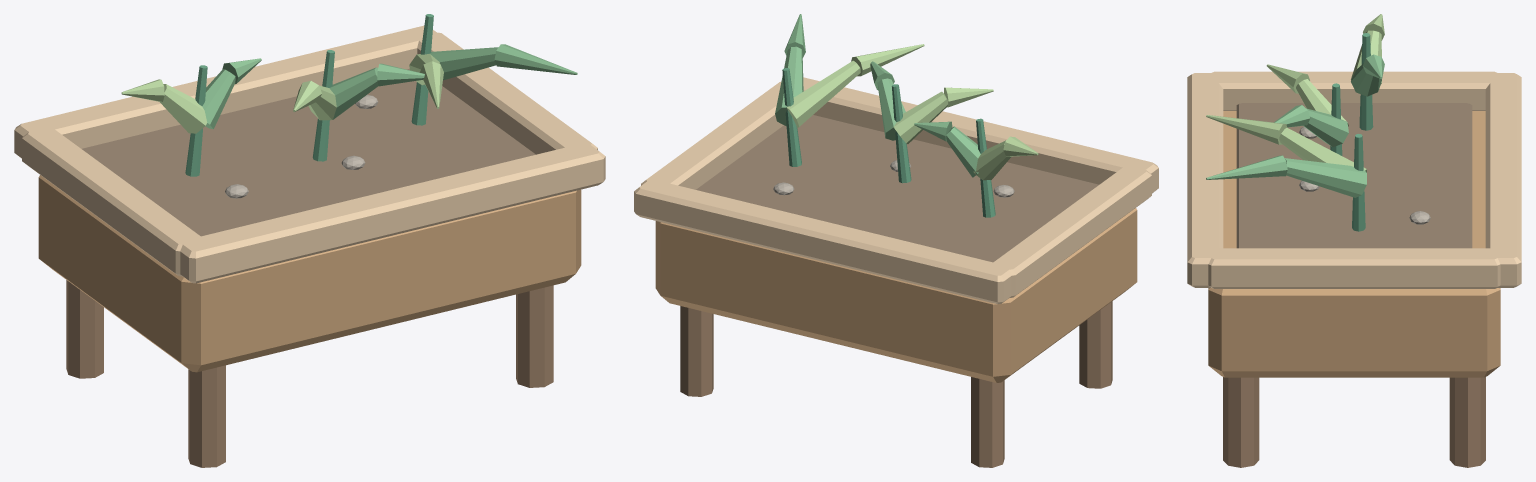
File: planter_box.glb
The picture shows the model from 3 angles, left to right: view 1: azimuth 30°, elevation 25°; view 2: azimuth 150°, elevation 25°; view 3: azimuth 270°, elevation 25°; orthographic projection. The views are drawn at different scales.
Visible parts, largest first — view 1: planter_box_wood_mid, planter_box_wood_light, planter_box_soil, planter_box_wood_bark, planter_box_leaf_main, planter_box_leaf_light, planter_box_leaf_dark, planter_box_pebble; view 2: planter_box_wood_mid, planter_box_wood_light, planter_box_soil, planter_box_wood_bark, planter_box_leaf_light, planter_box_leaf_main, planter_box_leaf_dark; view 3: planter_box_wood_light, planter_box_wood_mid, planter_box_soil, planter_box_wood_bark, planter_box_leaf_main, planter_box_leaf_light, planter_box_leaf_dark, planter_box_pebble.
Part boxes in pixels (left/top/right/bottom): planter_box_wood_mid: left=38, top=175, right=581, bottom=372; planter_box_wood_light: left=14, top=25, right=605, bottom=283; planter_box_soil: left=82, top=69, right=535, bottom=236; planter_box_wood_bark: left=66, top=280, right=553, bottom=467; planter_box_leaf_main: left=202, top=44, right=577, bottom=129; planter_box_leaf_light: left=121, top=54, right=443, bottom=133; planter_box_leaf_dark: left=185, top=14, right=433, bottom=176; planter_box_pebble: left=225, top=94, right=377, bottom=198; planter_box_wood_mid: left=655, top=208, right=1137, bottom=382; planter_box_wood_light: left=634, top=77, right=1158, bottom=304; planter_box_soil: left=696, top=115, right=1098, bottom=262; planter_box_wood_bark: left=680, top=301, right=1112, bottom=467; planter_box_leaf_light: left=787, top=44, right=1038, bottom=180; planter_box_leaf_main: left=775, top=14, right=980, bottom=177; planter_box_leaf_dark: left=782, top=68, right=995, bottom=217; planter_box_wood_light: left=1187, top=71, right=1521, bottom=288; planter_box_wood_mid: left=1208, top=111, right=1500, bottom=377; planter_box_soil: left=1236, top=103, right=1472, bottom=248; planter_box_wood_bark: left=1223, top=377, right=1485, bottom=467; planter_box_leaf_main: left=1206, top=54, right=1384, bottom=197; planter_box_leaf_light: left=1206, top=14, right=1384, bottom=172; planter_box_leaf_dark: left=1330, top=33, right=1373, bottom=231; planter_box_pebble: left=1299, top=127, right=1430, bottom=224.
Bounding box in the file's own units: 1.52 × 1.13 × 1.12.
